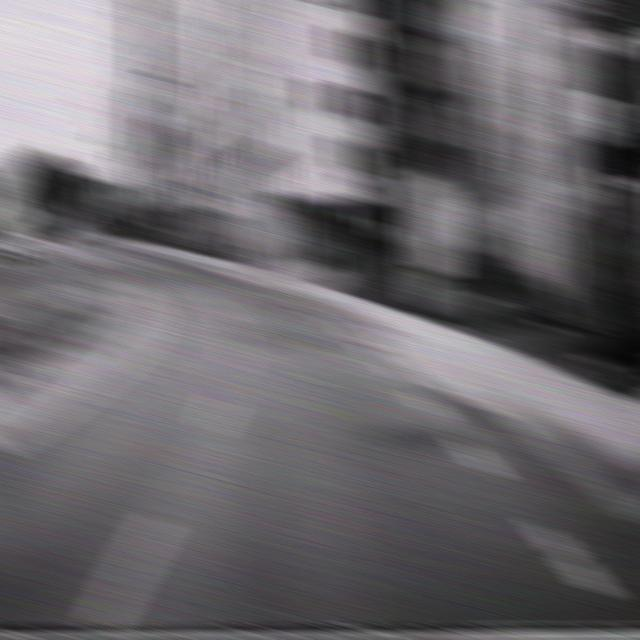stop_sign: (95, 187, 126, 220), (325, 192, 354, 222)
